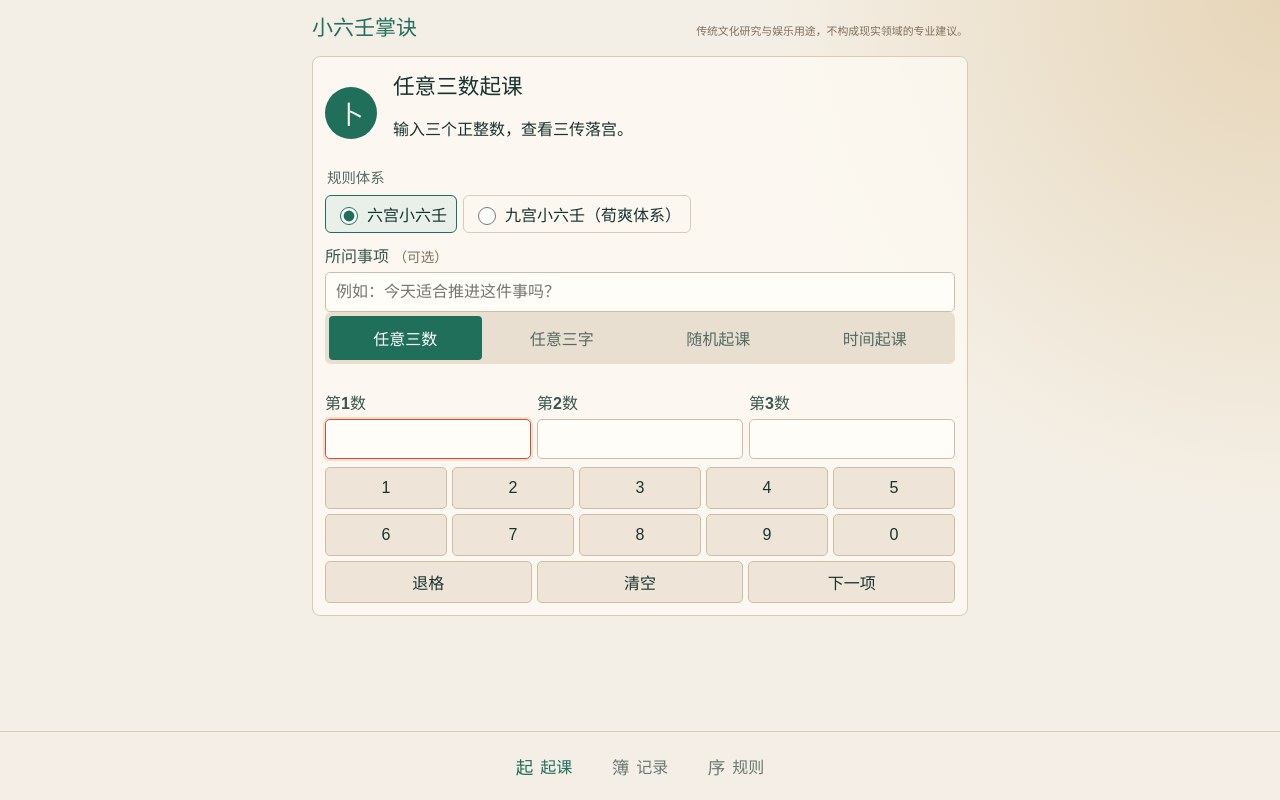
Scenario: 三数起课应用流程 › switches between both rule systems
The width and height of the screenshot is (1280, 800).
Click the radio button labelled "九宫小六壬（荀爽体系）".
click(487, 216)  # box top-left (478, 206), bottom-right (496, 224)
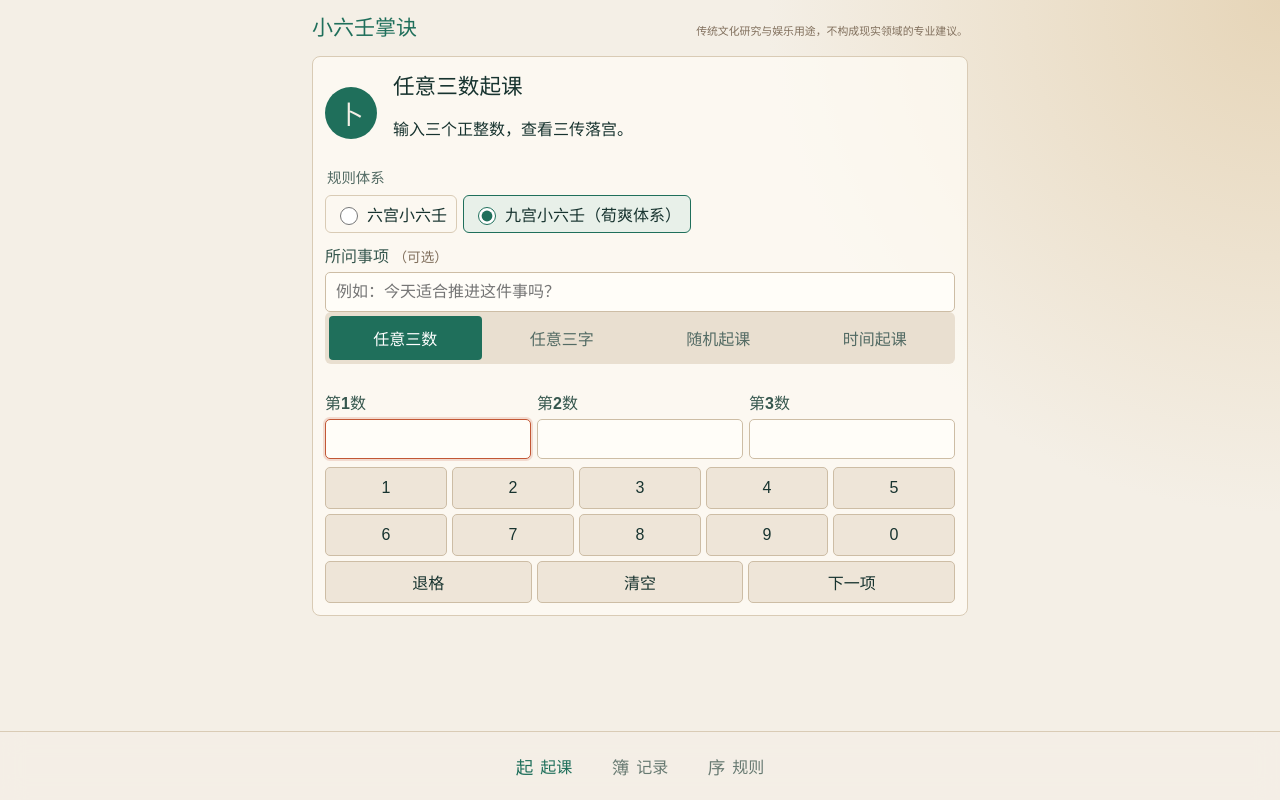
Check: the radio button labelled "九宫小六壬（荀爽体系）" is checked, box top-left (478, 206), bottom-right (496, 224)
Check: the radio button labelled "六宫小六壬" is not checked, box top-left (340, 206), bottom-right (358, 224)
